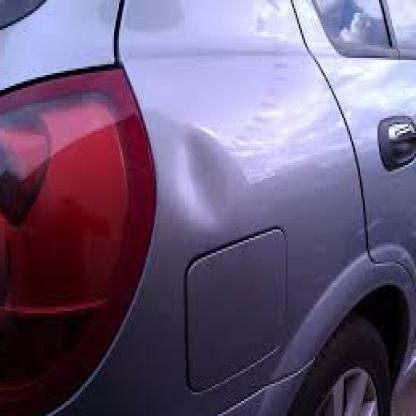dent: (170, 116, 246, 242)
